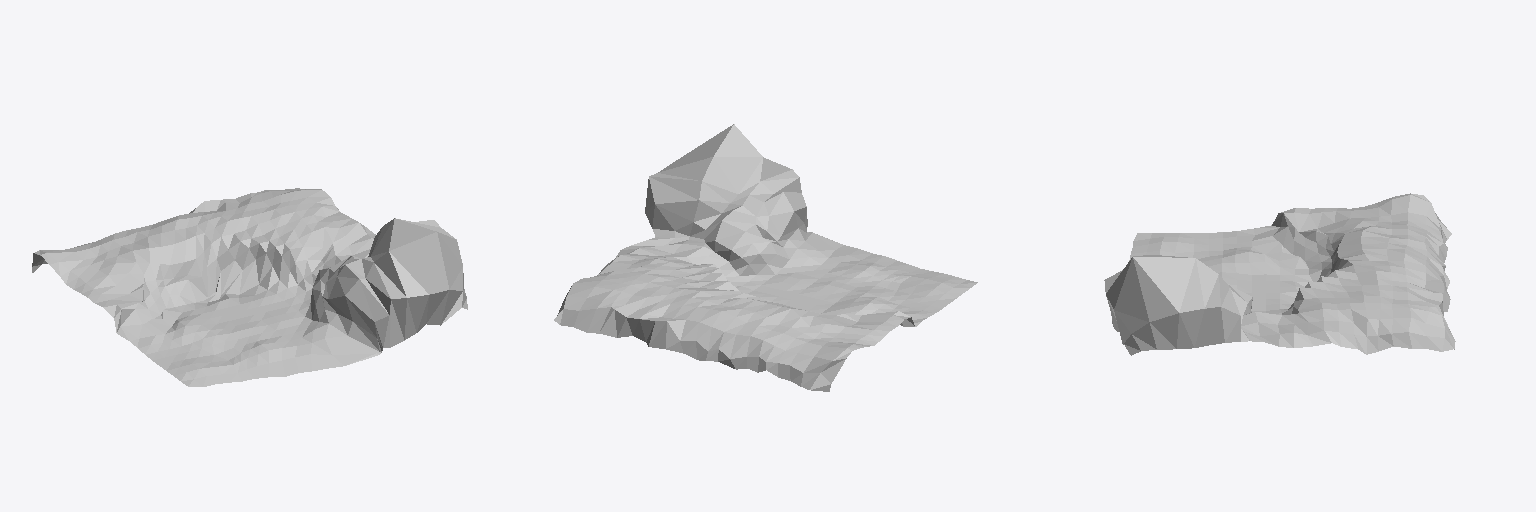
File: landscape.obj
3 views of the same model, side by side, from view 1: azimuth 30°, elevation 25°; view 2: azimuth 150°, elevation 25°; view 3: azimuth 270°, elevation 25° (orthographic).
Parts seen in each view (by area): view 1: Plane; view 2: Plane; view 3: Plane.
Boxes of the visible parts, x1,y1,x2,y2 form: Plane: [32, 188, 467, 386]; Plane: [554, 124, 977, 391]; Plane: [1104, 193, 1455, 355].
Bounding box in the file's own units: 278 × 91.45 × 280.